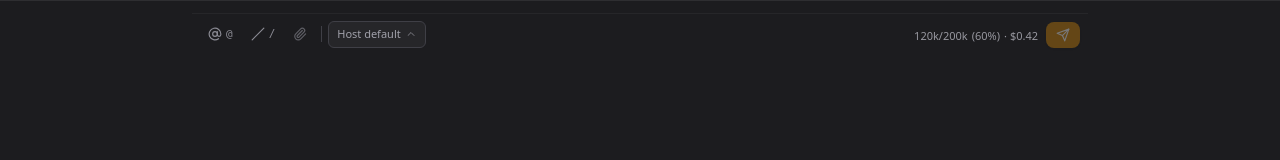
Test case: toolbar and send › exposes usage and optional spend in the hint and tooltip (cost {"amount":0.42,"currency":"USD"})
Hover over the element showing "120k/200k (60%) · $0.42".
mouse_move(976, 36)  # box [914,28,1038,44]
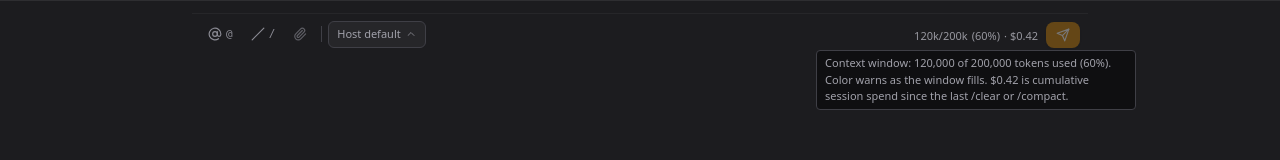
expect the tooltip shows "60%": met, box [825,55,1111,103]
